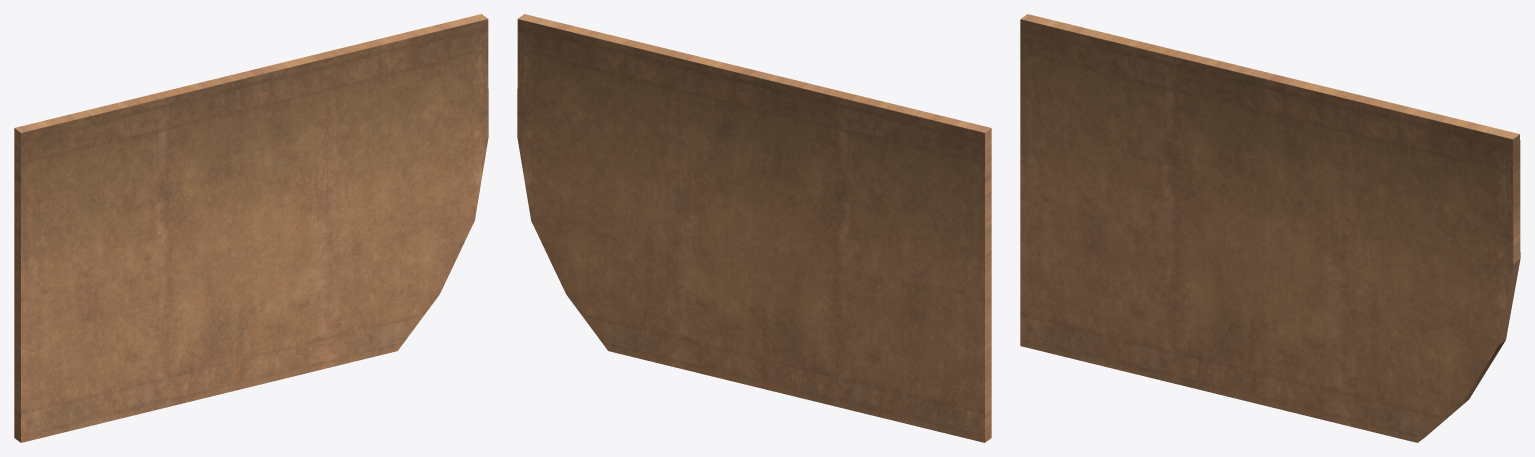
Rendered from Wall_1_D.fbx.
3 renders of one model, left to right at view 1: azimuth 30°, elevation 25°; view 2: azimuth 150°, elevation 25°; view 3: azimuth 330°, elevation 25°, orthographic. The views are drawn at different scales.
Parts seen in each view (by area): view 1: Wall_1_D; view 2: Wall_1_D; view 3: Wall_1_D.
Part boxes in pixels (box(x1,y1,x2,y2)): Wall_1_D: box(14, 14, 488, 442); Wall_1_D: box(517, 14, 991, 442); Wall_1_D: box(1020, 14, 1520, 442).
Bounding box in the file's own units: 4 × 2.53 × 0.1.
